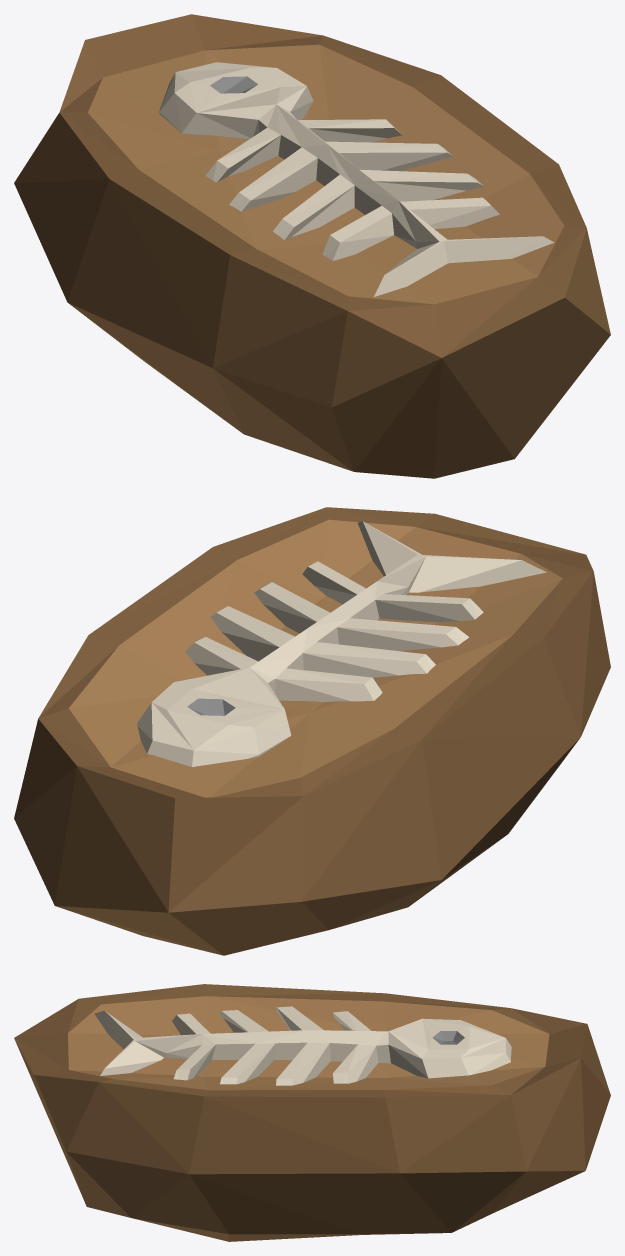
Rendered from fossil 2.fbx.
3 views of the same model, one above another, from view 1: azimuth 30°, elevation 25°; view 2: azimuth 150°, elevation 25°; view 3: azimuth 270°, elevation 25° (orthographic). The views are drawn at different scales.
Parts seen in each view (by area): view 1: pCube20, pCube21; view 2: pCube20, pCube21; view 3: pCube20, pCube21.
Boxes of the visible parts, x1,y1,x2,y2 form: pCube20: [14, 14, 610, 478]; pCube21: [159, 62, 554, 296]; pCube20: [14, 507, 610, 955]; pCube21: [137, 521, 546, 766]; pCube20: [14, 984, 610, 1241]; pCube21: [94, 1006, 511, 1085].
Bounding box in the file's own units: 1.52 × 1 × 2.73.
